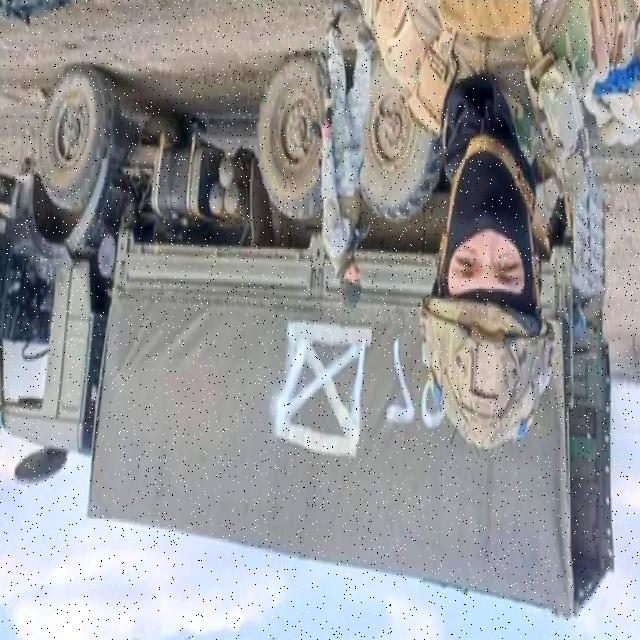TRUCK: (0, 62, 616, 622)
